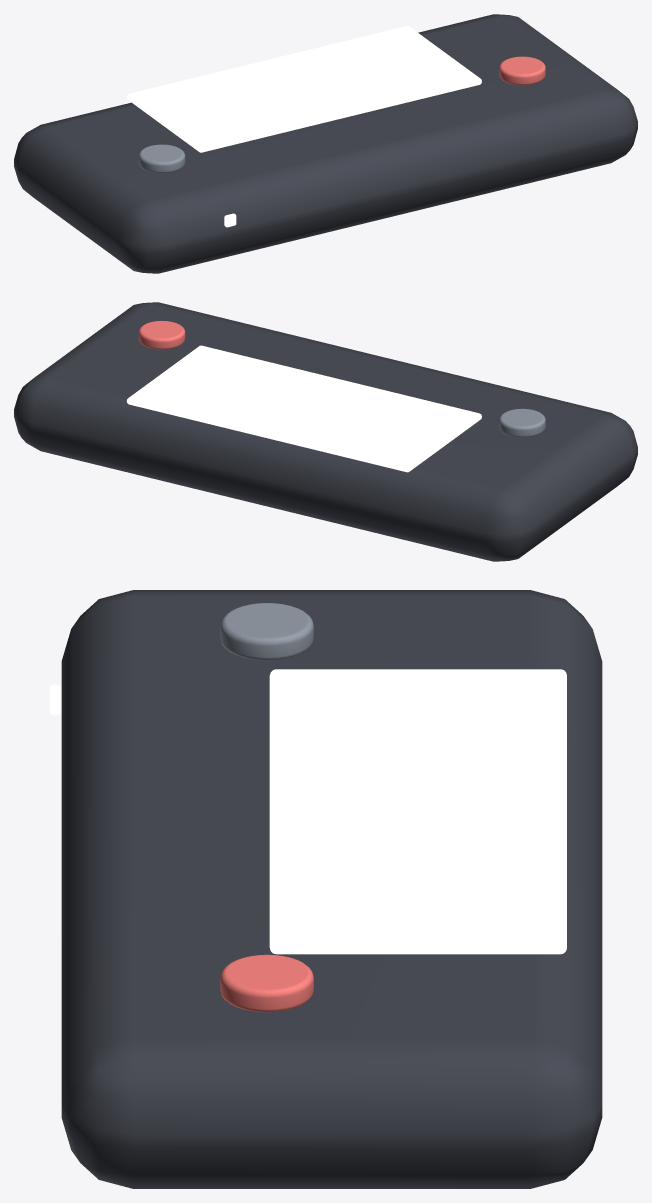
Rendered from consolePsp.glb.
3 views of the same model, one above another, from view 1: azimuth 30°, elevation 25°; view 2: azimuth 150°, elevation 25°; view 3: azimuth 270°, elevation 25° (orthographic). The views are drawn at different scales.
Visible parts, largest first — view 1: Handheld console, Game screen, Control button, Control button.001; view 2: Handheld console, Game screen, Control button.001, Control button; view 3: Handheld console, Game screen, Control button, Control button.001.
Boxes of the visible parts, x1,y1,x2,y2 form: Handheld console: [14, 14, 637, 273]; Game screen: [126, 26, 481, 152]; Control button: [138, 144, 185, 173]; Control button.001: [499, 56, 545, 85]; Handheld console: [14, 302, 637, 561]; Game screen: [126, 345, 481, 472]; Control button.001: [138, 320, 185, 349]; Control button: [499, 408, 545, 437]; Handheld console: [61, 590, 602, 1188]; Game screen: [269, 669, 566, 954]; Control button: [220, 603, 313, 660]; Control button.001: [220, 954, 313, 1012].
Bounding box in the file's own units: 1.65 × 0.2525 × 0.7665.
